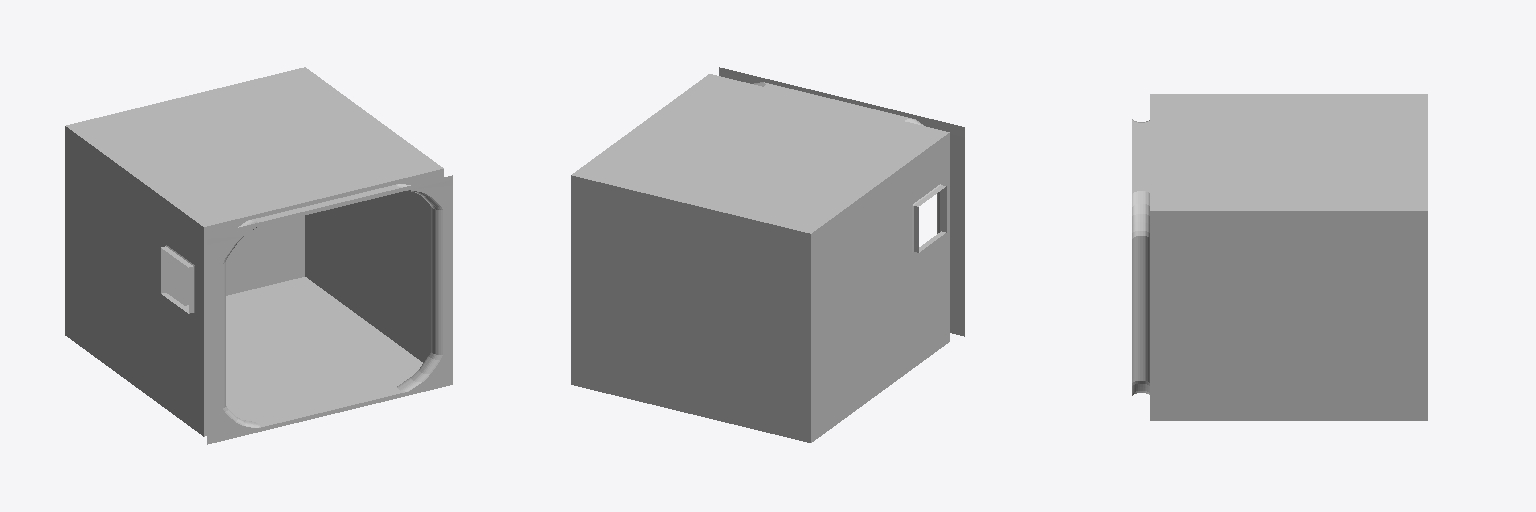
The model's file is Cell_with_own_mat.obj.
3 renders of one model, left to right at view 1: azimuth 30°, elevation 25°; view 2: azimuth 150°, elevation 25°; view 3: azimuth 270°, elevation 25°, orthographic.
Parts seen in each view (by area): view 1: Zelle_Zelle; view 2: Zelle_Zelle; view 3: Zelle_Zelle.
Part boxes in pixels (x1,y1,x2,y2): Zelle_Zelle: (65,67,452,444); Zelle_Zelle: (571,67,964,442); Zelle_Zelle: (1132,94,1427,420).
Bounding box in the file's own units: 308 × 250 × 320.